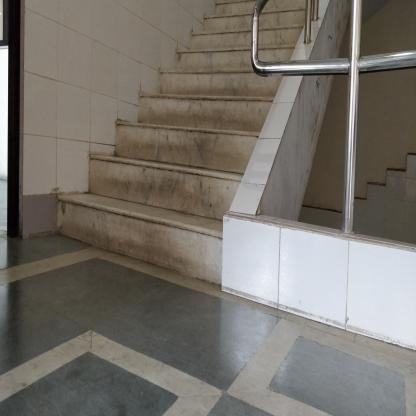stairs: (101, 112, 222, 295)
